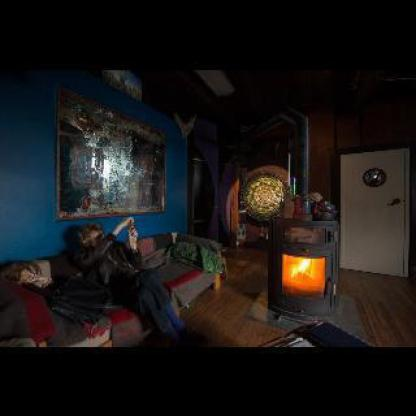fire: (284, 256, 322, 286)
